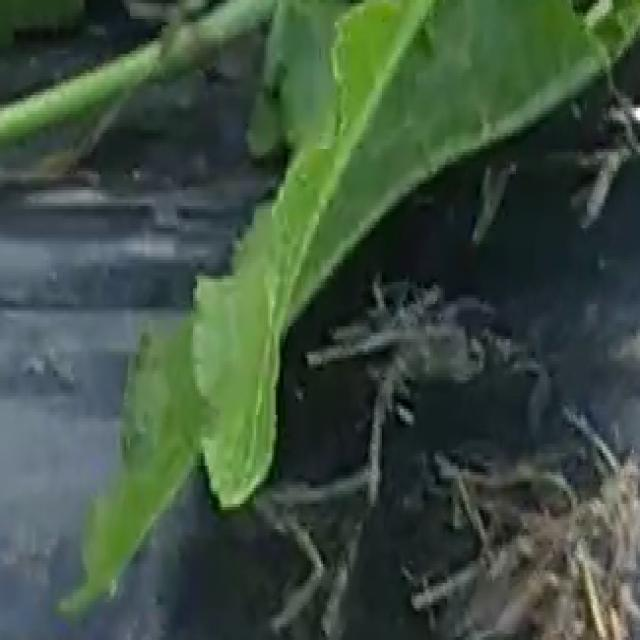organic waste: (29, 0, 640, 624)
